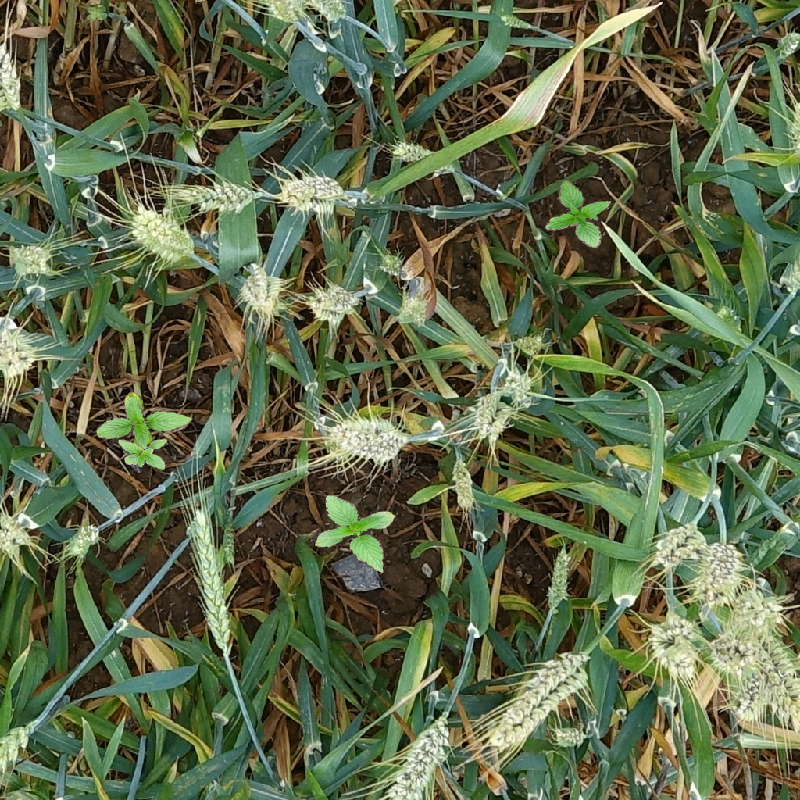spikelet: (486, 649, 588, 753), (186, 505, 233, 652), (382, 714, 451, 799), (129, 204, 198, 263), (324, 416, 407, 464), (645, 618, 699, 683), (169, 178, 260, 215), (694, 541, 743, 605), (278, 172, 347, 213), (237, 260, 282, 318), (730, 588, 784, 633), (1, 316, 38, 379), (650, 522, 698, 569), (305, 282, 359, 323), (8, 240, 56, 279), (469, 390, 505, 440), (730, 675, 770, 720), (1, 35, 24, 112), (1, 723, 30, 781), (546, 546, 572, 609), (707, 639, 747, 678), (1, 510, 34, 556), (501, 368, 535, 408), (62, 523, 99, 559), (450, 457, 474, 511), (261, 1, 304, 25), (396, 294, 428, 326), (777, 255, 800, 296), (306, 1, 348, 23), (513, 330, 548, 355), (377, 251, 407, 279), (390, 141, 429, 162), (774, 29, 800, 60), (553, 725, 587, 747), (786, 104, 800, 156)
weed: (96, 392, 192, 470), (315, 495, 396, 573), (545, 180, 611, 248)
